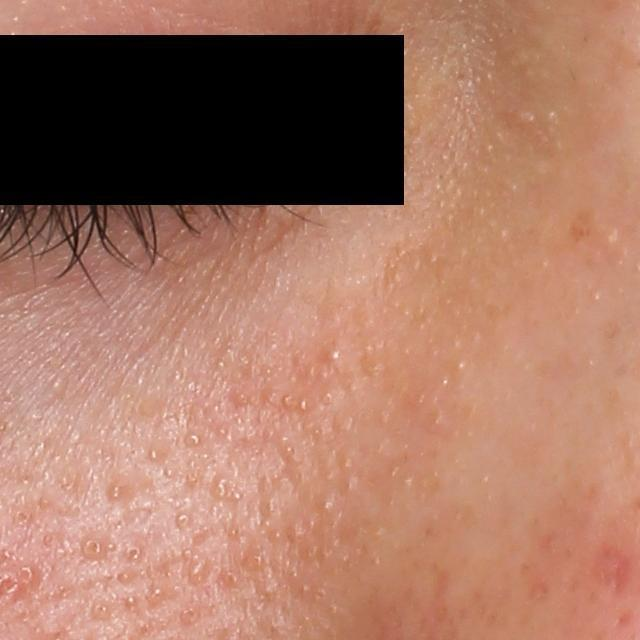comedo: (240, 549, 267, 572), (79, 536, 103, 561), (187, 557, 210, 583), (47, 378, 69, 400), (286, 520, 307, 543), (92, 600, 115, 621), (318, 494, 340, 515), (214, 476, 232, 501), (123, 544, 143, 563), (13, 508, 32, 528), (108, 482, 127, 501), (176, 510, 192, 529), (325, 348, 342, 365), (125, 592, 140, 608), (186, 432, 200, 448), (298, 397, 310, 412)
melasma: (566, 217, 595, 245)
papule: (13, 561, 44, 594)
